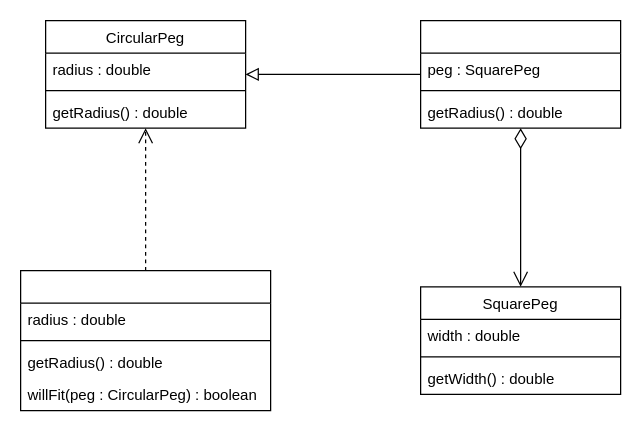
Some shapes in this 641 by 431 pixel diagram are drawn without their labels. The shapes that lost their labels are listed below. From the top down, each one's box as (x1, y1, x2, y2) in pixels, then its label:
(419, 19, 621, 128): SquarePegAdapter
(19, 269, 271, 411): CircularHole
